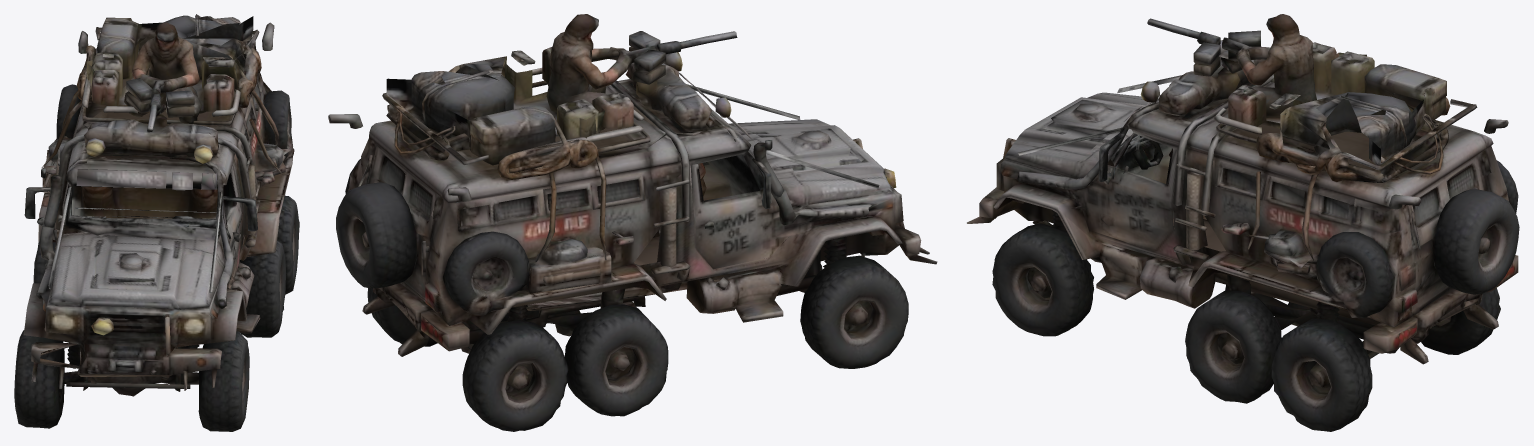
File: SurvivalVehicle.fbx
The picture shows the model from 3 angles, left to right: view 1: azimuth 30°, elevation 25°; view 2: azimuth 150°, elevation 25°; view 3: azimuth 270°, elevation 25°; orthographic projection. The views are drawn at different scales.
Parts seen in each view (by area): view 1: tripo_node_034b39bd; view 2: tripo_node_034b39bd; view 3: tripo_node_034b39bd.
Boxes of the visible parts, x1,y1,x2,y2 form: tripo_node_034b39bd: (14,14,299,431); tripo_node_034b39bd: (328,14,937,431); tripo_node_034b39bd: (967,14,1519,431).
Bounding box in the file's own units: 0.8867 × 0.6703 × 0.9786.
Materials: 1 (1 with a texture image).
